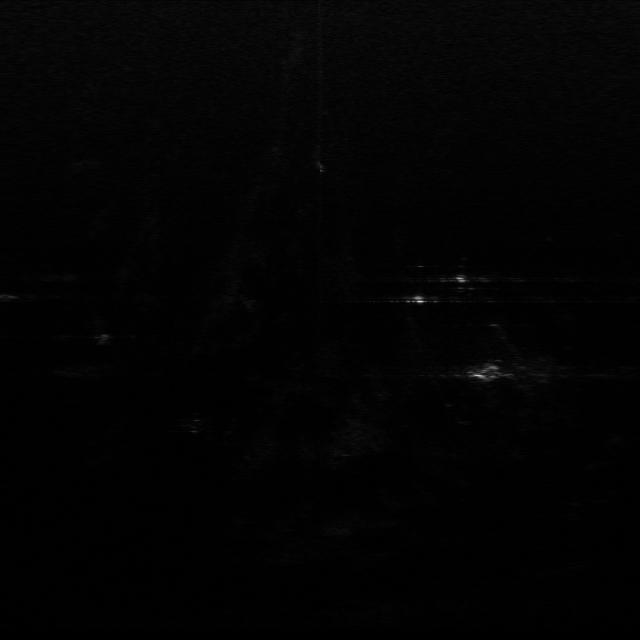rov: (471, 361, 507, 383)
